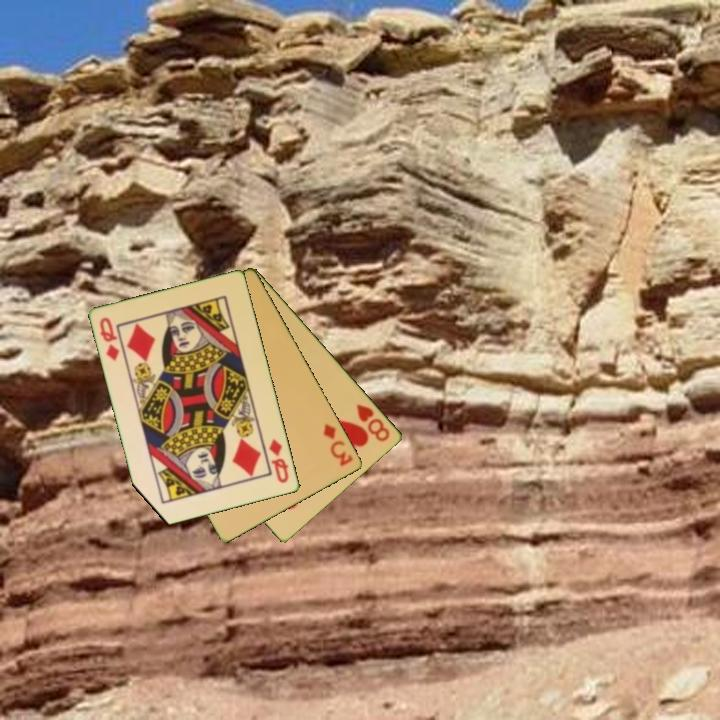3d: (320, 420, 356, 469)
8h: (353, 401, 393, 444)
Qd: (96, 314, 123, 364), (266, 436, 292, 486)
